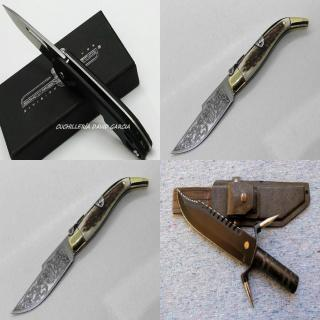knife: (175, 186, 253, 262), (168, 74, 238, 156), (9, 234, 78, 316), (0, 1, 58, 64)
